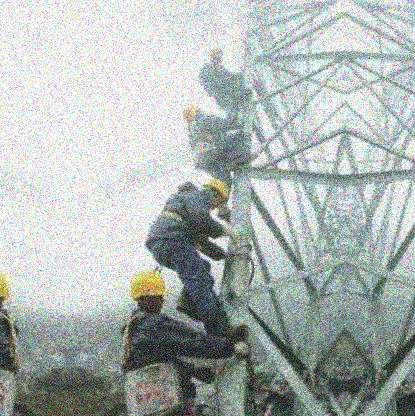helmet: (129, 268, 170, 317), (201, 179, 231, 210), (183, 106, 202, 129), (211, 47, 223, 67)
